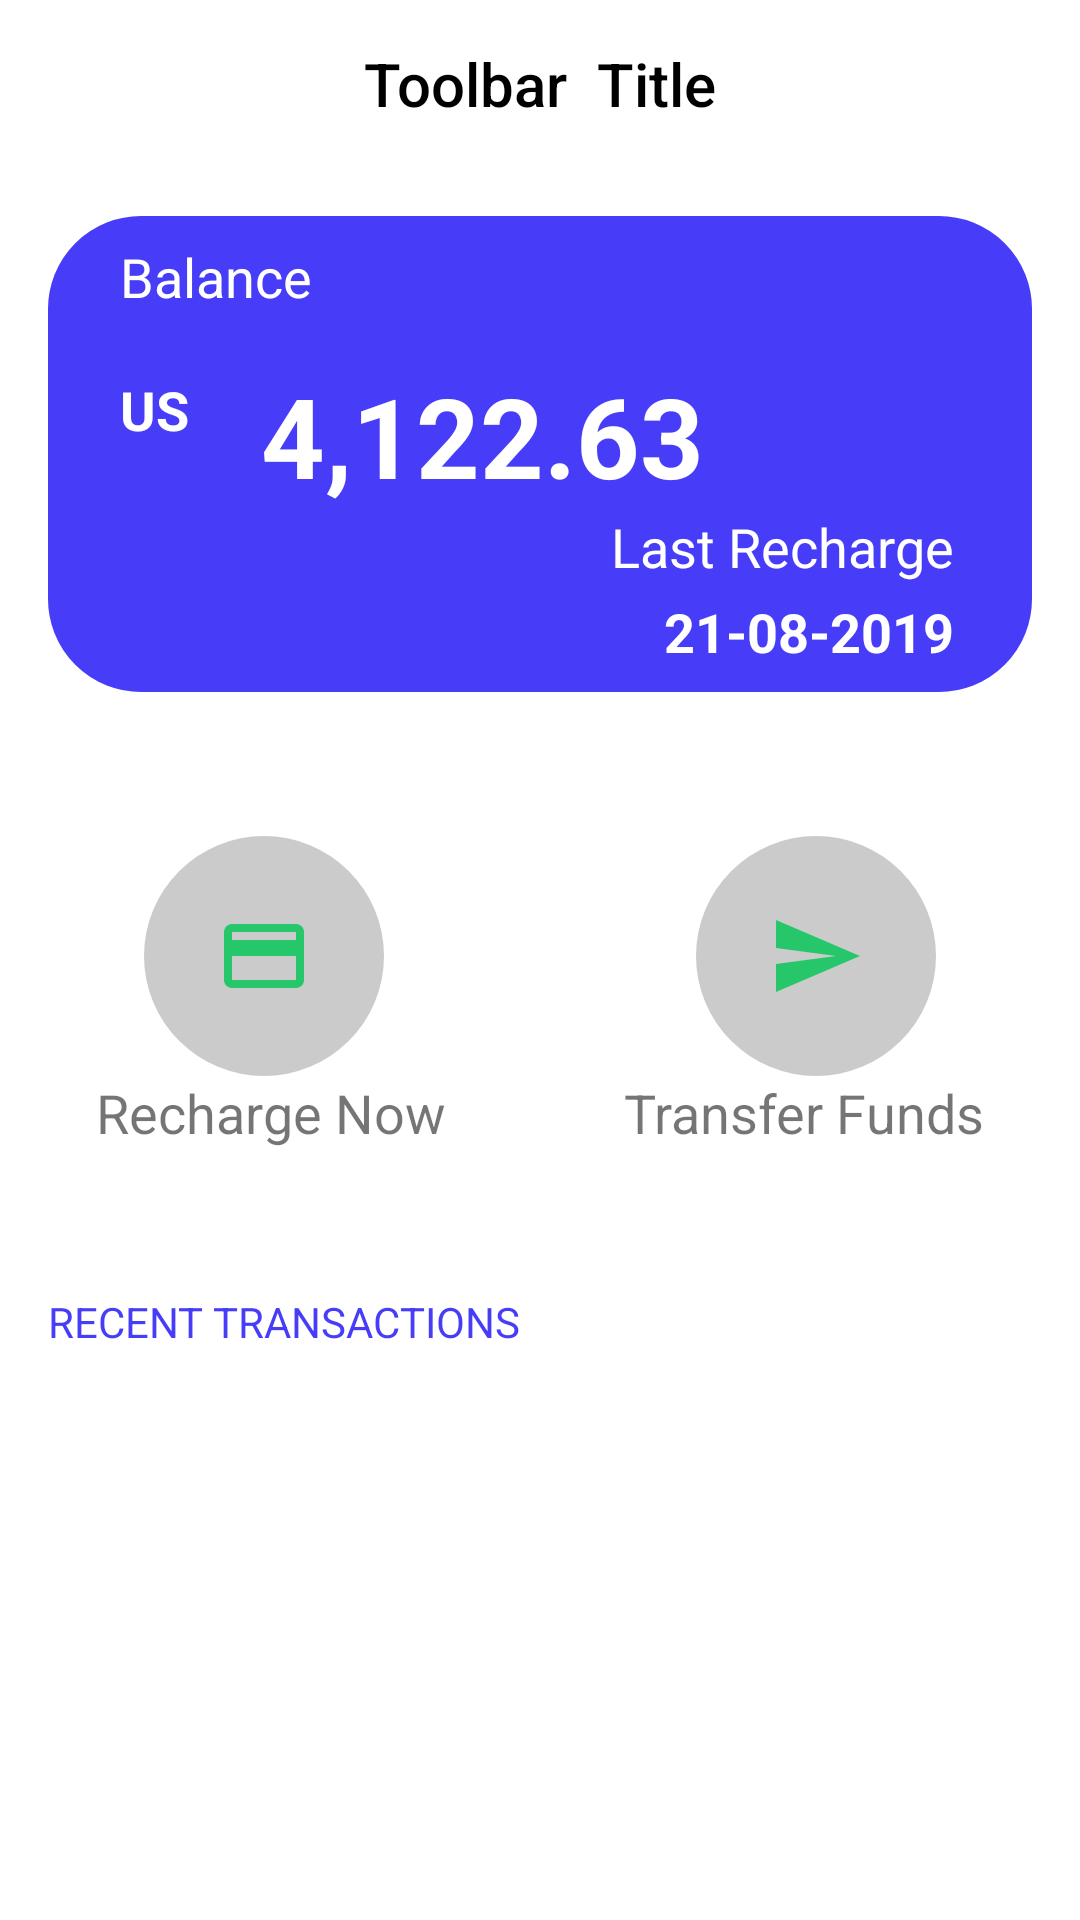

Point at icon controls on the screen. Image size 1080 x 1920, points as (x,y).
payment: (264,956)
send: (816,956)
